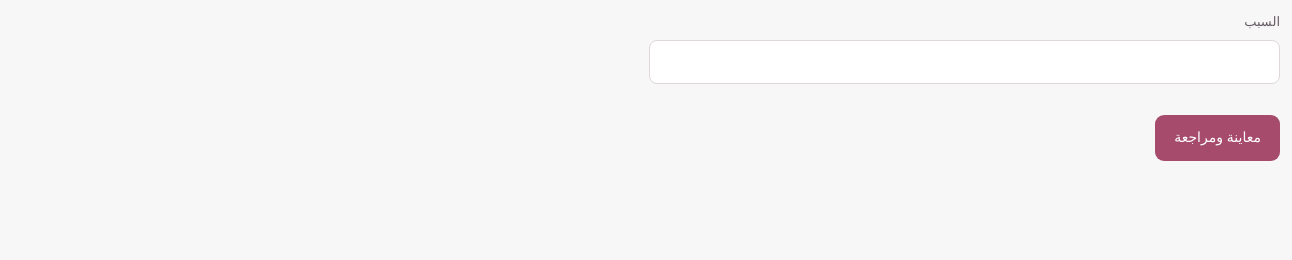
freezes uncertain requests and retries the identical operation
The image size is (1292, 260).
Later steps or results of the test are not shown.
Type "تالف" into the field labelled "السبب" at (964, 62), box [649, 40, 1280, 84]
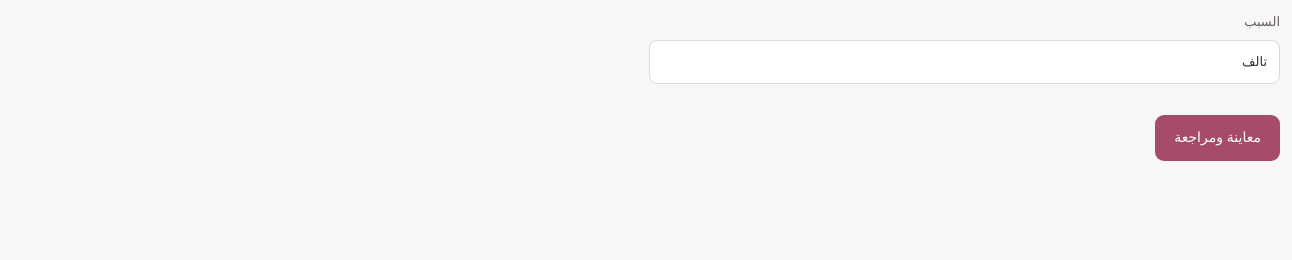
Click the button "معاينة ومراجعة" at (1218, 138), box [1155, 115, 1280, 161]
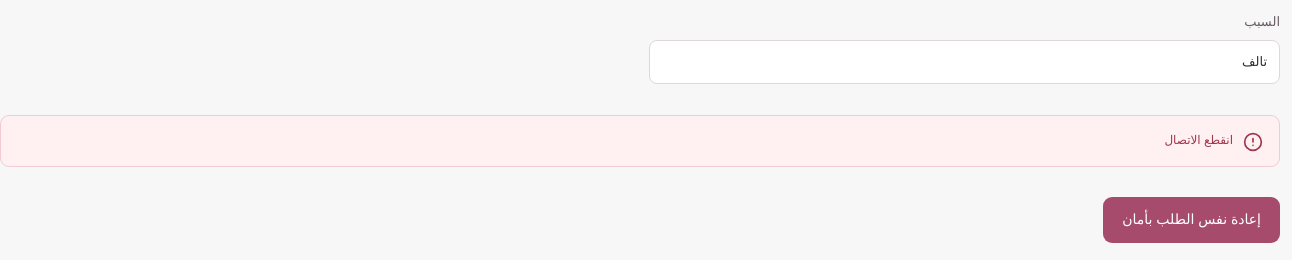
Expected: the field labelled "السبب" is disabled, [649, 40, 1280, 84]
Now the text "انقطع الاتصال" is shown, box [1164, 133, 1233, 147]
